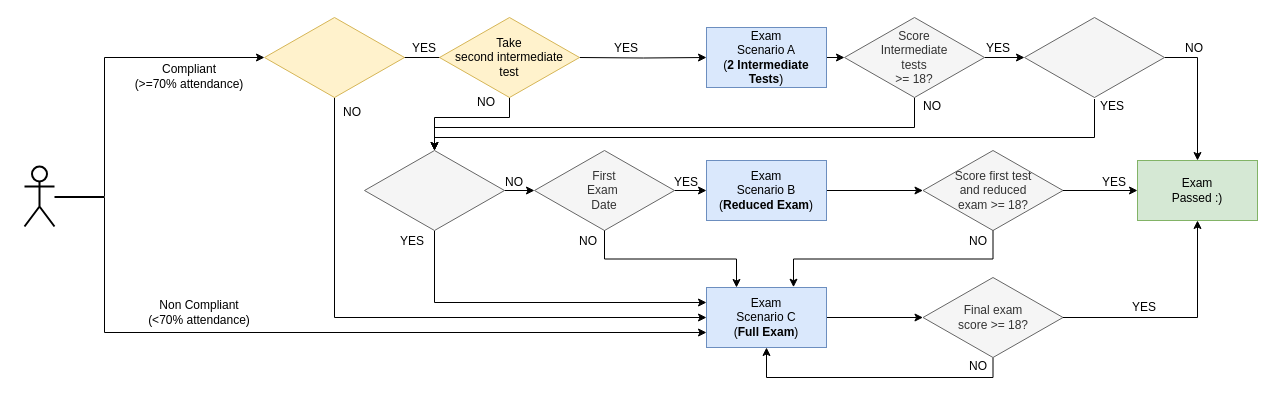
Some shapes in this 1275 by 403 pixel diagram are drawn without their labels. The shapes that lost their labels are listed below. From the top down, each one's centre as x and y in pixels, then its label:
the point at 334,57: Take first intermediate test
the point at 1094,57: Reject the final score?
the point at 39,196: Student
the point at 434,190: Reject first int. test score?
